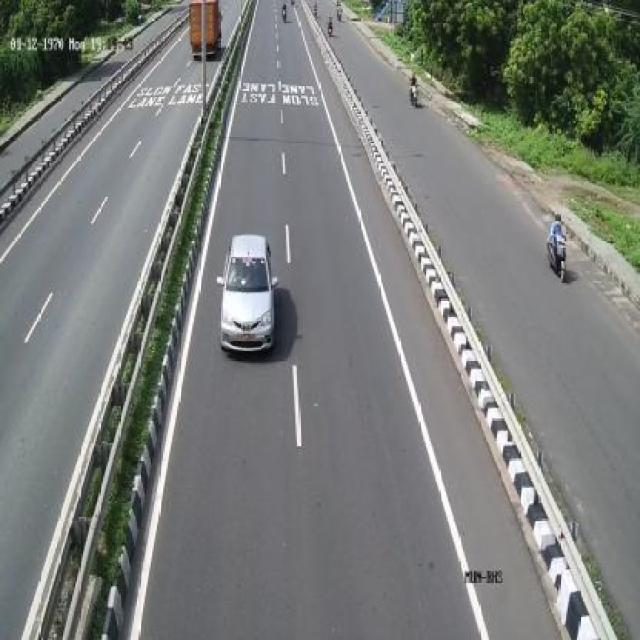car: (220, 224, 280, 358)
